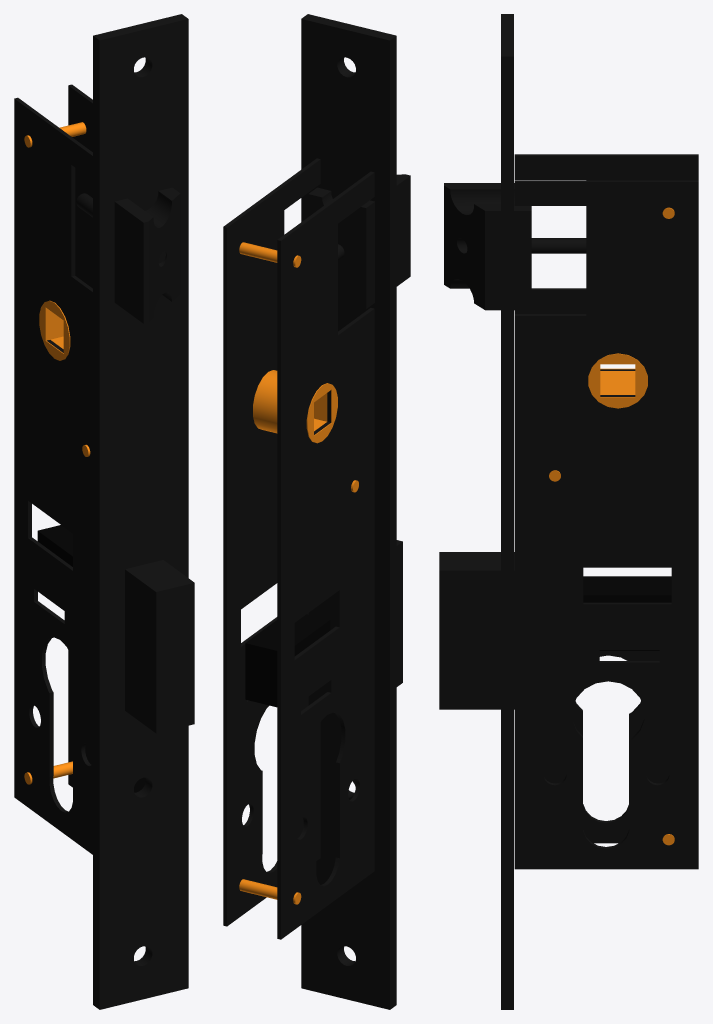
Rendered from DOOR LOCK.fbx.
3 renders of one model, left to right at view 1: azimuth 30°, elevation 25°; view 2: azimuth 150°, elevation 25°; view 3: azimuth 270°, elevation 25°, orthographic.
Parts seen in each view (by area): view 1: Box001, Box004, Box007, Box002, Box003, Cylinder004, Box010; view 2: Box004, Box001, Box003, Box002, Box010, Cylinder004, Box007, Cylinder006, Cylinder005; view 3: Box003, Box001, Box007, Box004, Box002, Box010, Cylinder004, Cylinder003.
Part boxes in pixels (<box>): Box001: <box>93,14,188,1009</box>; Box004: <box>14,97,92,854</box>; Box007: <box>125,560,194,733</box>; Box002: <box>114,187,180,323</box>; Box003: <box>68,84,145,792</box>; Cylinder004: <box>39,300,70,360</box>; Box010: <box>37,525,72,566</box>; Box004: <box>277,171,374,939</box>; Box001: <box>301,14,396,1009</box>; Box003: <box>223,158,320,926</box>; Box002: <box>308,174,410,308</box>; Box010: <box>245,614,330,707</box>; Cylinder004: <box>253,370,337,443</box>; Box007: <box>308,540,402,721</box>; Cylinder006: <box>239,879,301,904</box>; Cylinder005: <box>239,242,301,267</box>; Box003: <box>514,180,698,869</box>; Box001: <box>501,14,513,1009</box>; Box007: <box>439,552,514,709</box>; Box004: <box>514,154,698,843</box>; Box002: <box>444,183,531,310</box>; Box010: <box>583,576,671,650</box>; Cylinder004: <box>588,353,647,408</box>; Cylinder003: <box>531,238,586,253</box>.
Bounding box in the file's own units: 23 × 240 × 59.2.
